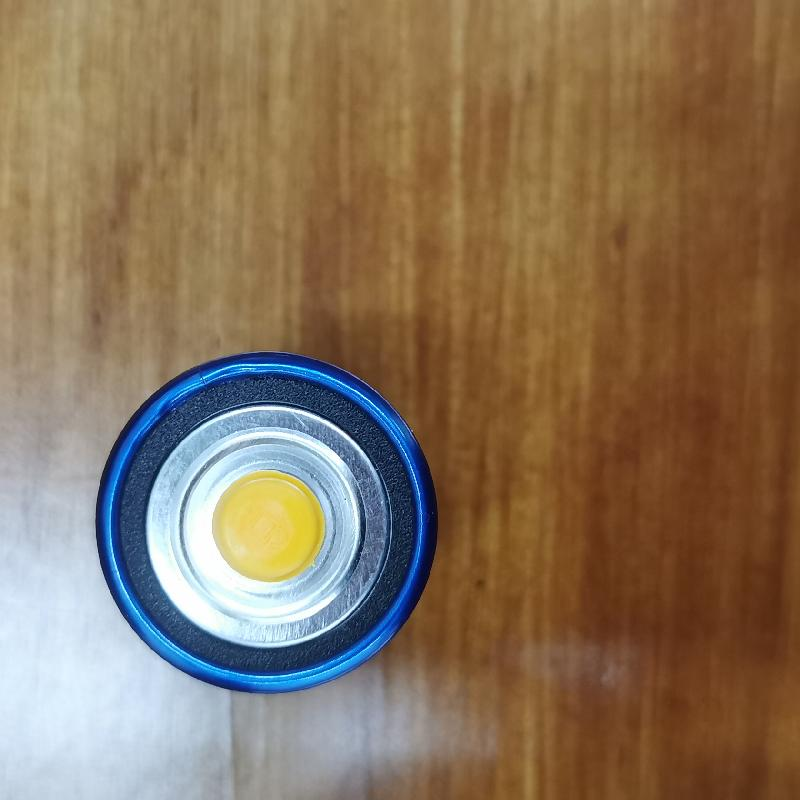battery: (90, 348, 440, 693)
